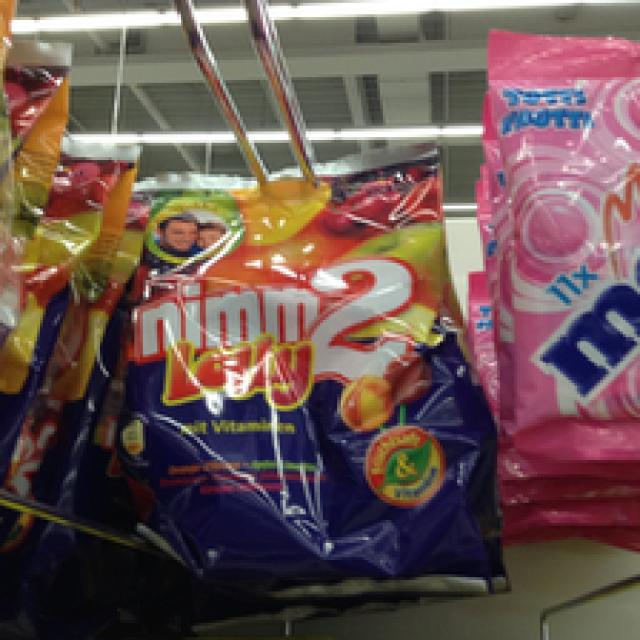groceries: (131, 168, 460, 563), (468, 17, 632, 454)
